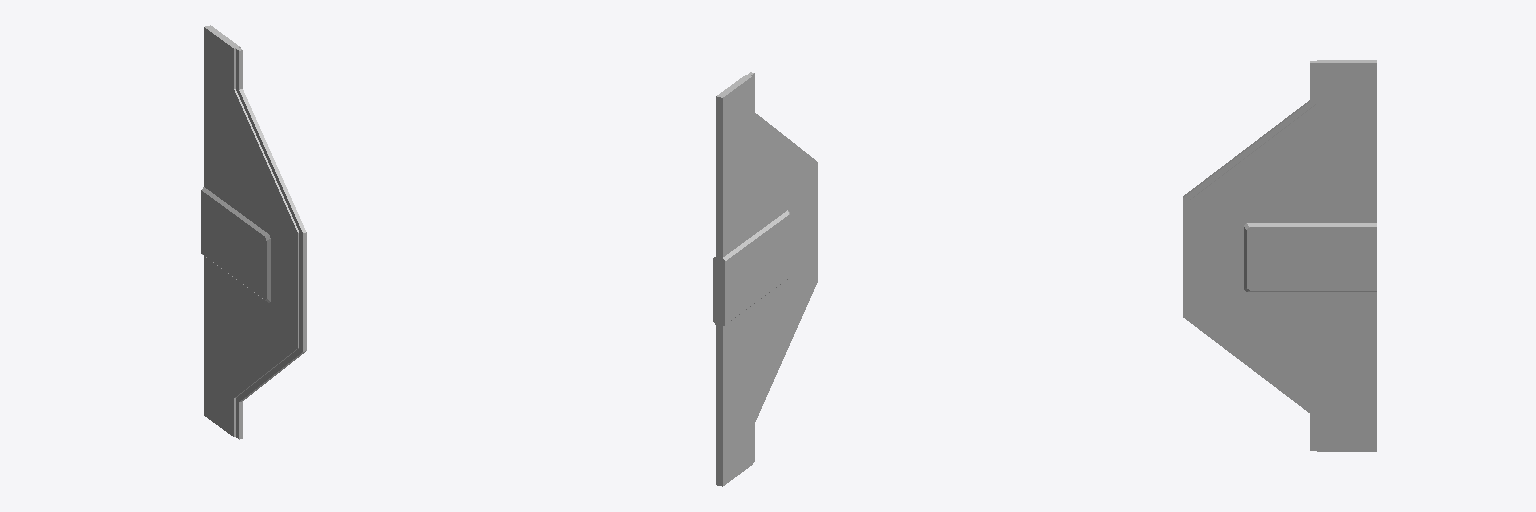
File: Door Left.obj
3 views of the same model, side by side, from view 1: azimuth 30°, elevation 25°; view 2: azimuth 150°, elevation 25°; view 3: azimuth 270°, elevation 25° (orthographic).
Visible parts, largest first — view 1: SketchUp.001_ID11; view 2: SketchUp.001_ID11; view 3: SketchUp.001_ID11.
Part boxes in pixels (bbox=[...]): SketchUp.001_ID11: bbox=[201, 25, 306, 439]; SketchUp.001_ID11: bbox=[713, 72, 817, 486]; SketchUp.001_ID11: bbox=[1183, 60, 1376, 451].
Size of the model in its own units: 0.0898 by 2.76 by 1.25.